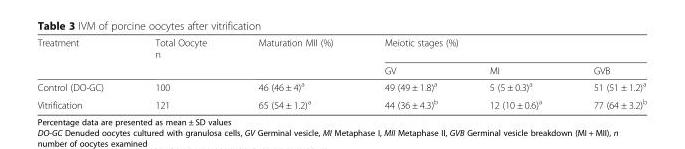table: (36, 36, 646, 110)
table column: (231, 36, 358, 110), (358, 36, 463, 110), (463, 36, 567, 110), (128, 36, 231, 110), (36, 36, 128, 110), (567, 36, 646, 110)
table column header: (36, 36, 646, 77)
table row: (36, 36, 646, 61), (36, 77, 646, 94), (36, 61, 646, 77), (36, 94, 646, 110)
table spanning cell: (358, 36, 646, 61), (231, 36, 358, 77), (128, 36, 231, 77), (36, 36, 128, 77)
